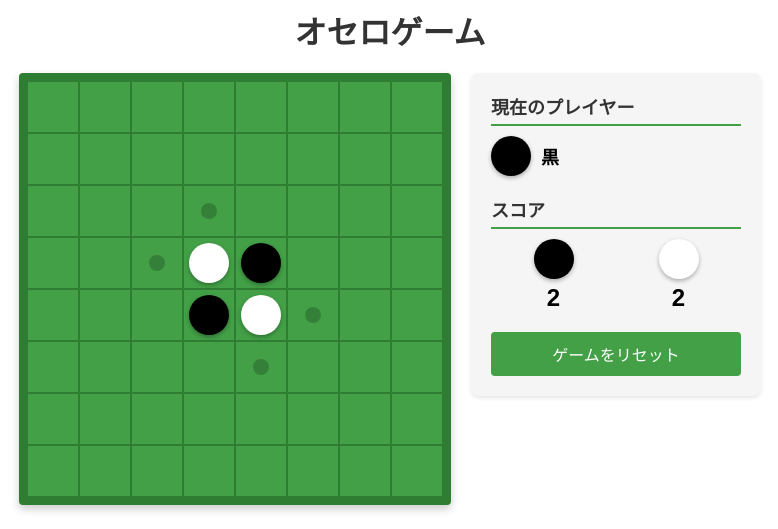
Othello Game › allows placing discs and updates the game state
Click the element with test id "cell-2-3" at (209, 211), box left=183, top=185, right=235, bottom=237
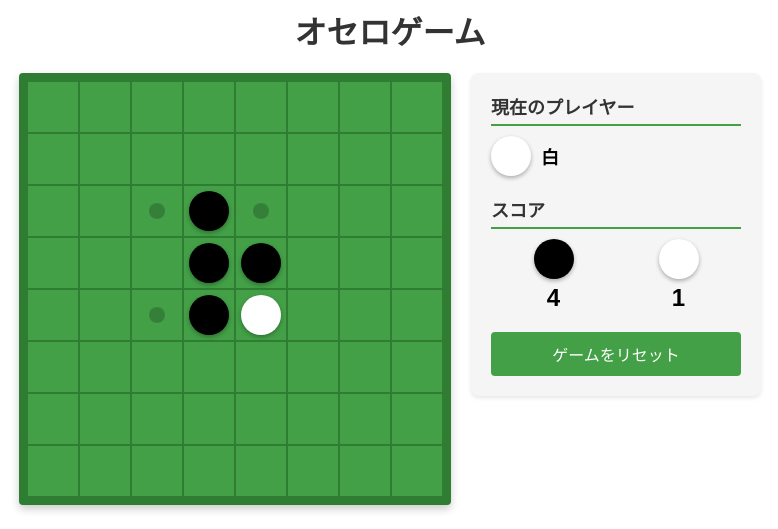
Check: the text "4" is shown, box left=547, top=284, right=560, bottom=312
Check: the text "1" is shown, box left=672, top=284, right=685, bottom=312
Check: the text "白" is shown, box left=541, top=143, right=559, bottom=169
// 白の手番で石を置く
Click the element with test id "cell-2-2" at (157, 211), box left=131, top=185, right=183, bottom=237
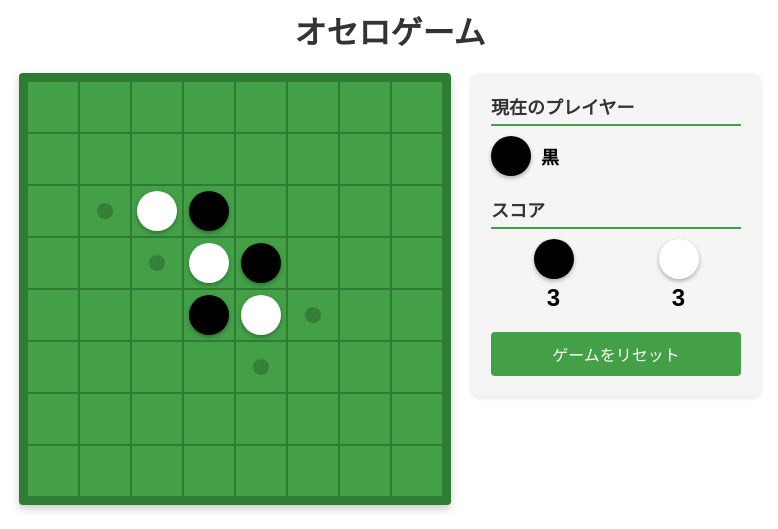
Check: the 1st text "3" is shown, box left=547, top=284, right=560, bottom=312
Check: the text "黒" is shown, box left=541, top=143, right=559, bottom=169
